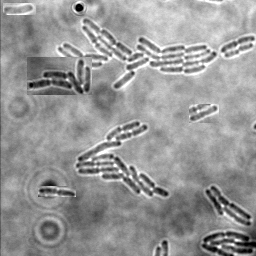Dividing: (219, 34, 255, 52), (223, 41, 253, 57), (38, 186, 76, 197)
Microcolony: (75, 120, 169, 197), (27, 57, 92, 95), (204, 184, 251, 226), (200, 230, 255, 255), (3, 3, 36, 15)
Rod: (189, 104, 219, 123)
